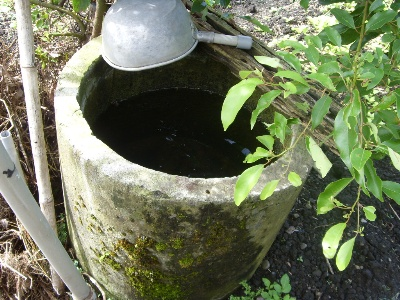bowl: (100, 1, 200, 71)
